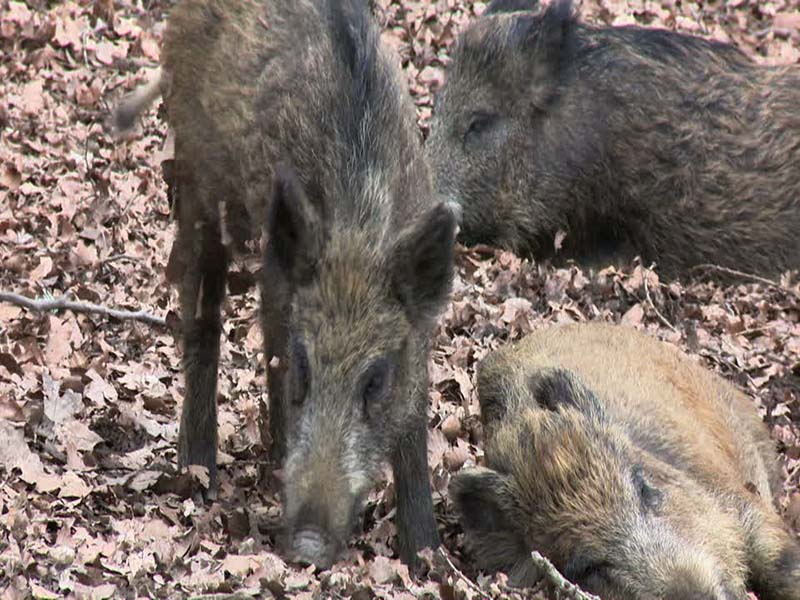cinghiale: (153, 7, 461, 569), (442, 320, 792, 600), (436, 19, 793, 286)
